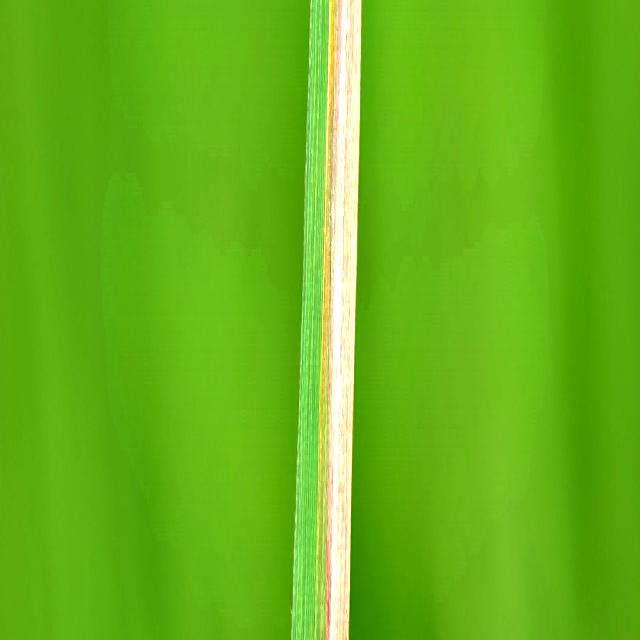BLB: (323, 0, 360, 640)
